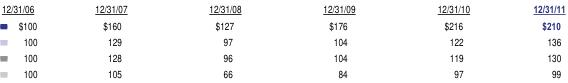table: (0, 1, 564, 80)
table column: (167, 1, 281, 80), (281, 1, 395, 80), (395, 1, 500, 80), (65, 1, 167, 80), (0, 1, 65, 80), (500, 1, 564, 80)
table column header: (0, 1, 564, 16)
table row: (0, 16, 564, 33), (0, 33, 564, 49), (0, 49, 564, 65), (0, 1, 564, 16), (0, 65, 564, 80)
